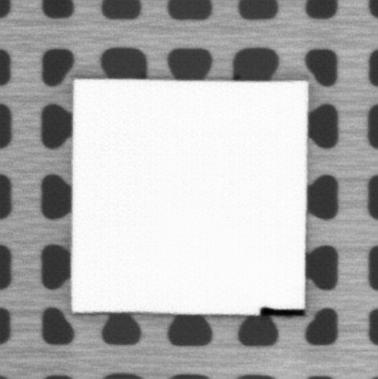DIE_BROKEN: (259, 304, 307, 319)
